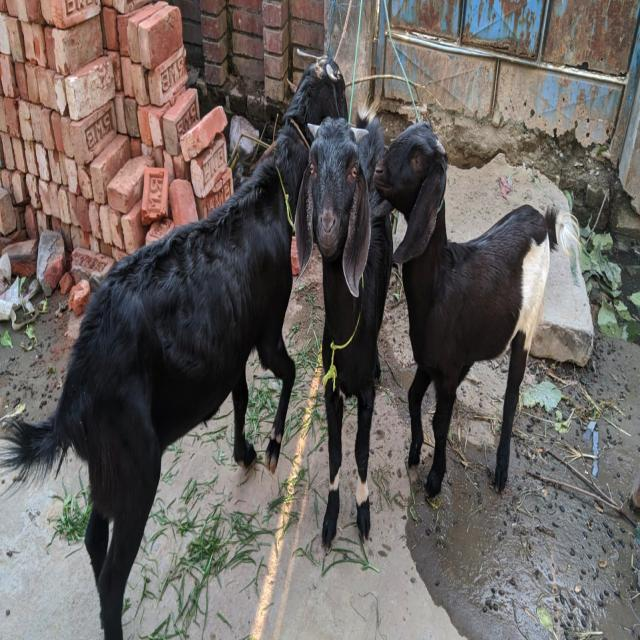Goat: (1, 55, 350, 638), (373, 119, 581, 499), (295, 94, 395, 552)
